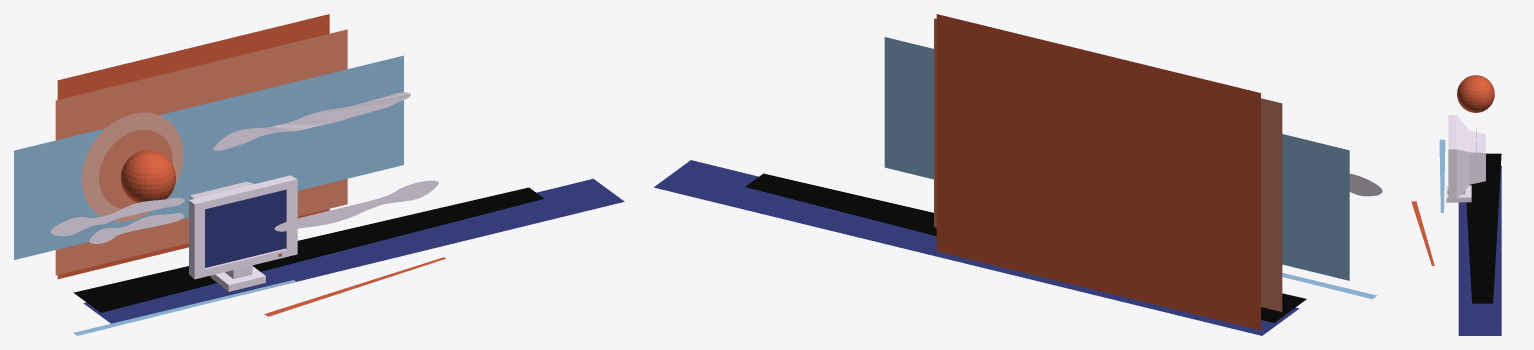
File: portfolio.glb
The picture shows the model from 3 angles, left to right: view 1: azimuth 30°, elevation 25°; view 2: azimuth 150°, elevation 25°; view 3: azimuth 270°, elevation 25°; orthographic projection. The views are drawn at different scales.
Visible parts, largest first — view 1: Plane.005; view 2: Plane.005; view 3: Plane.005.
Part boxes in pixels (<box>): Plane.005: <box>14,14,624,335</box>; Plane.005: <box>654,14,1382,335</box>; Plane.005: <box>1411,75,1501,335</box>.
Bounding box in the file's own units: 24.24 × 8.61 × 5.73.
